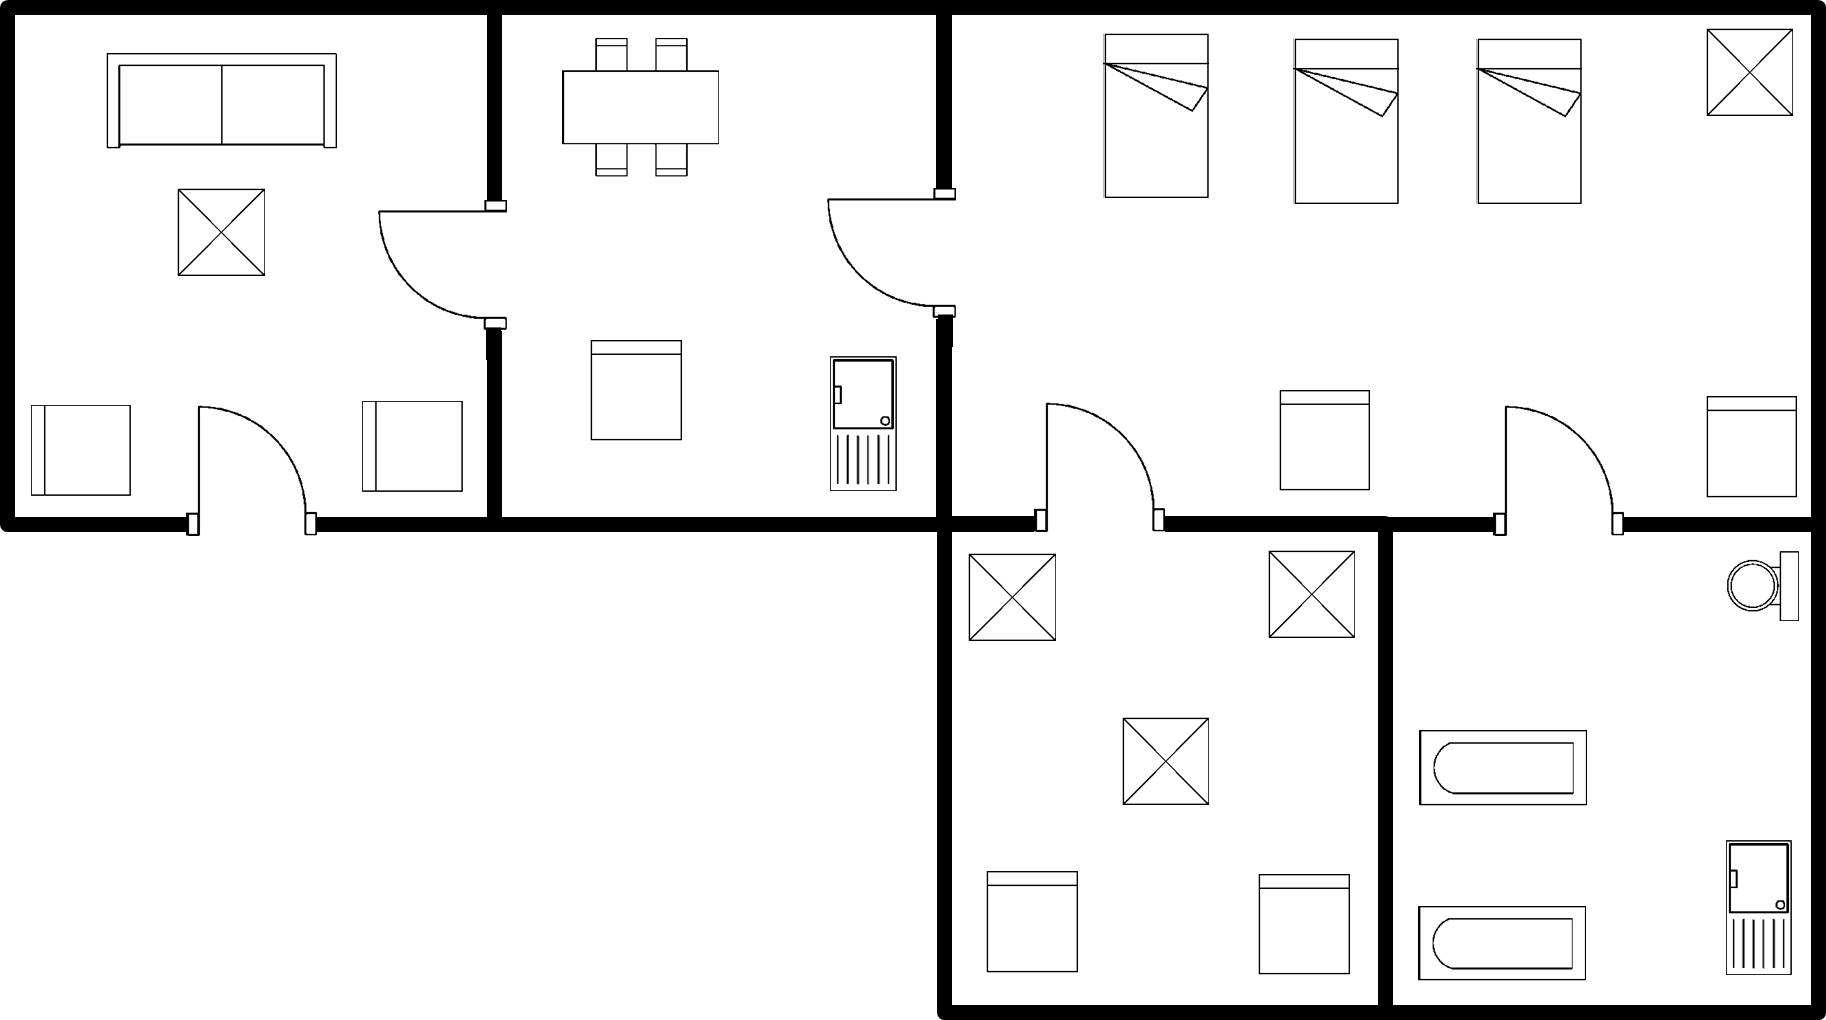bed: (1281, 33, 1412, 216), (1091, 26, 1218, 207), (1469, 30, 1592, 216)
coffee_table: (1111, 707, 1220, 818), (165, 182, 278, 286), (1255, 543, 1365, 648), (961, 544, 1065, 648), (1700, 22, 1804, 126)
dining_table: (548, 27, 730, 187)
large_sink: (1712, 544, 1808, 636)
large_sofa: (98, 44, 352, 161)
sink: (817, 349, 905, 500), (1717, 830, 1803, 984)
small_sofa: (582, 331, 696, 452), (974, 864, 1089, 984), (1246, 864, 1360, 983), (1696, 386, 1804, 510), (1268, 383, 1379, 501), (22, 397, 144, 503), (353, 391, 470, 500)
tub: (1408, 896, 1599, 991), (1411, 720, 1599, 817)
